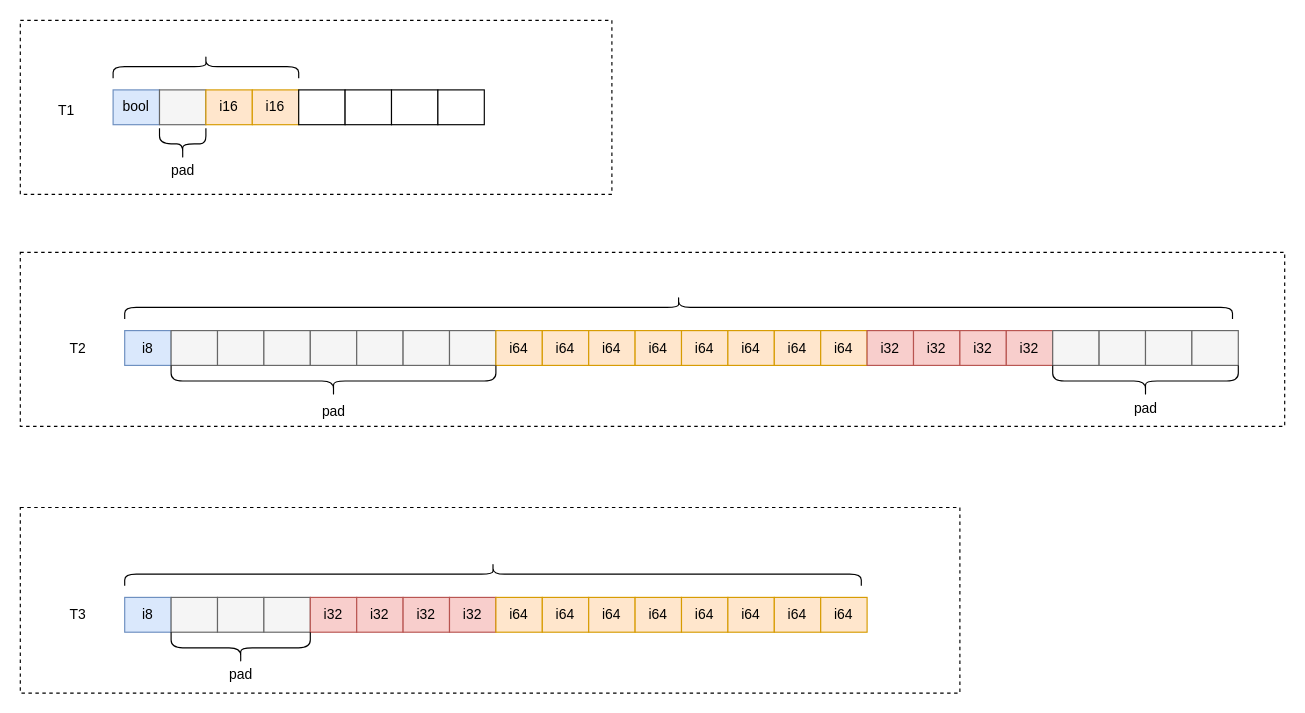
Image size: 1305x713. Some labels were removed from this diagram. The shapes that lost their labels are listed below. From the top down, each one's centre as x and y in pixels, then its label:
At (x=205, y=66): "4 byte".
At (x=678, y=307): "24 byte".
At (x=492, y=573): "16 byte".
